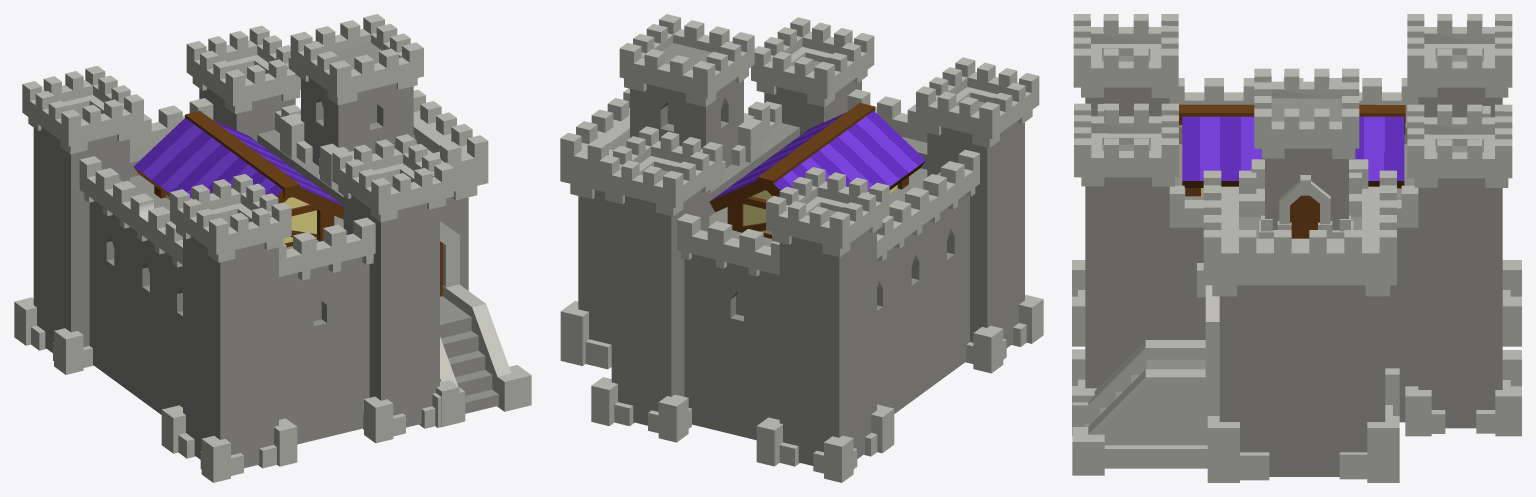
The model's file is MediumKeep.fbx.
3 renders of one model, left to right at view 1: azimuth 30°, elevation 25°; view 2: azimuth 150°, elevation 25°; view 3: azimuth 270°, elevation 25°, orthographic. The views are drawn at different scales.
Visible parts, largest first — view 1: polySurface1; view 2: polySurface1; view 3: polySurface1.
Part boxes in pixels (box(x1,y1,x2,y2)): polySurface1: box(14, 14, 531, 482); polySurface1: box(560, 14, 1043, 482); polySurface1: box(1072, 14, 1521, 482).
Bounding box in the file's own units: 247 × 216 × 256.
1 material, 1 textured.
